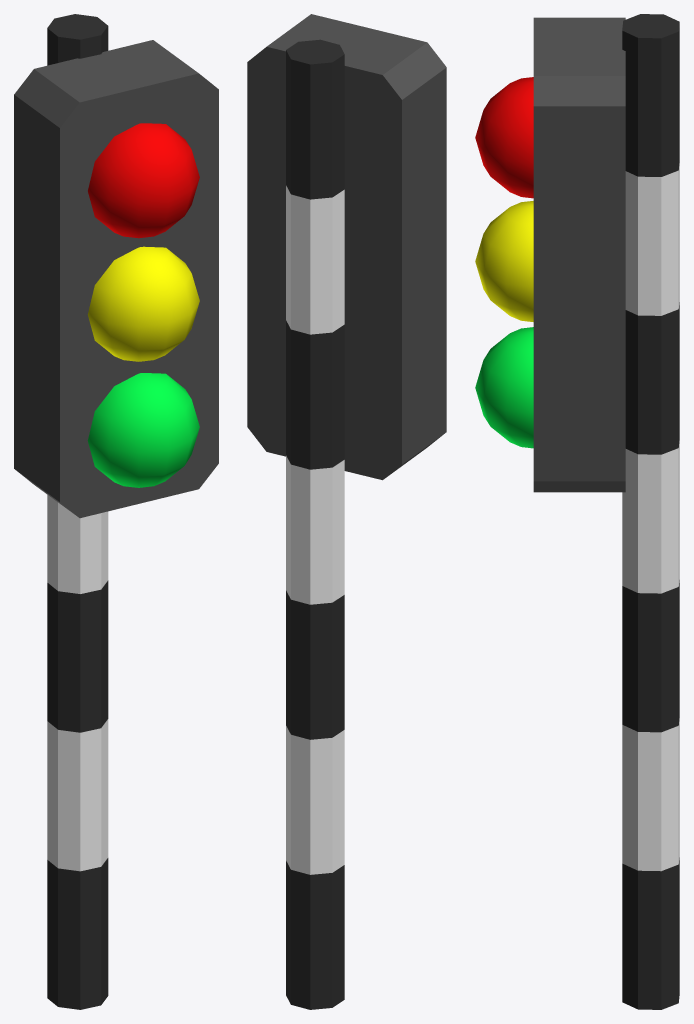
File: traffic light.FBX
3 renders of one model, left to right at view 1: azimuth 30°, elevation 25°; view 2: azimuth 150°, elevation 25°; view 3: azimuth 270°, elevation 25°, orthographic. The views are drawn at different scales.
Visible parts, largest first — view 1: traffic light; view 2: traffic light; view 3: traffic light.
Boxes of the visible parts, bbox=[...] form: traffic light: bbox=[14, 14, 218, 1009]; traffic light: bbox=[247, 14, 446, 1009]; traffic light: bbox=[475, 14, 679, 1009].
Size of the model in its own units: 22.96 by 134 by 25.55.
